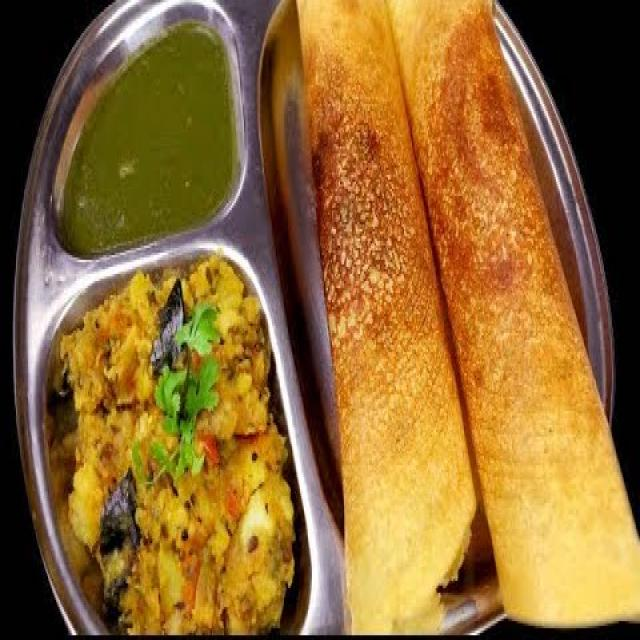dosa: (389, 0, 639, 638), (293, 0, 483, 638)
